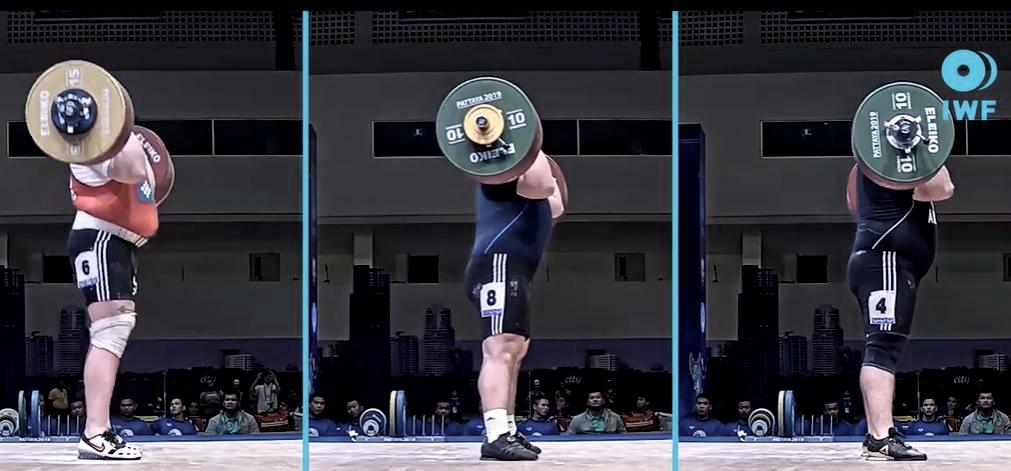Barbell: (49, 88, 103, 139), (458, 100, 508, 152), (880, 109, 926, 154)
